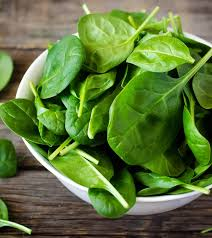spinach: (45, 85, 165, 178), (113, 63, 195, 164), (56, 47, 158, 114)
